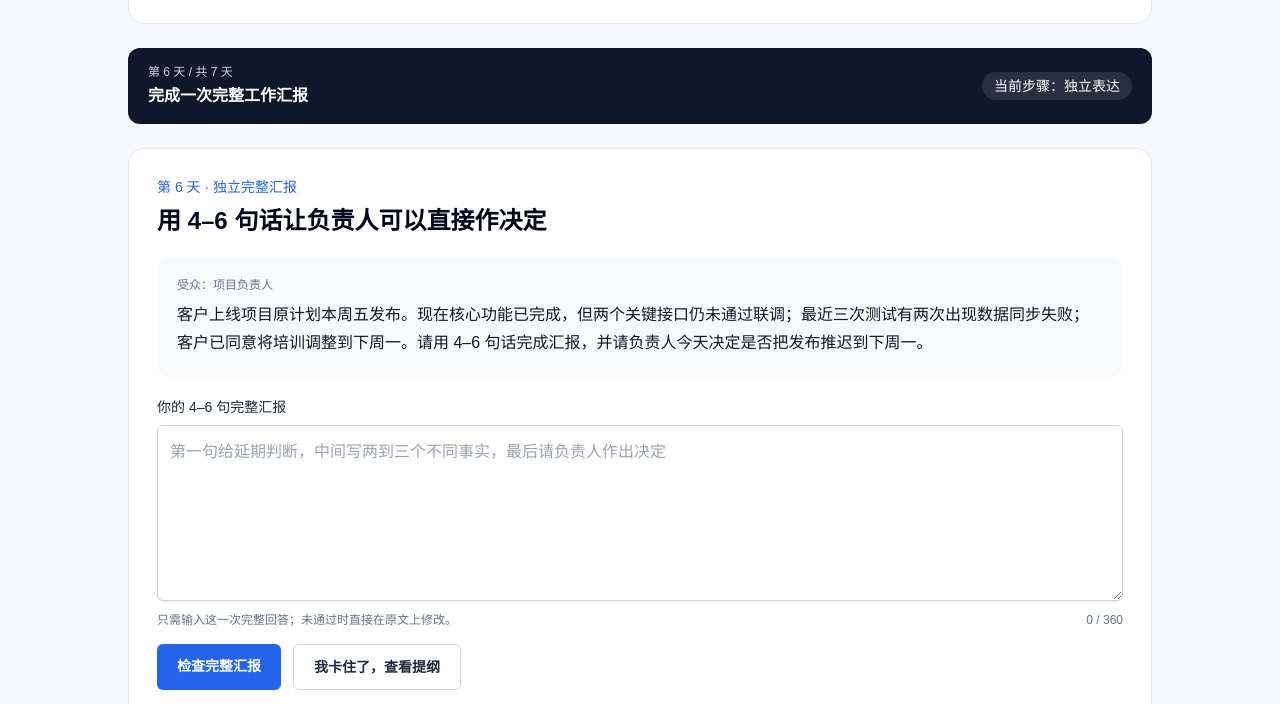
it: Module 16 progressive public training route › keeps Day 6 incomplete when the report has no actionable ending
(page scrolled)
Type "建议将本周五发布推迟到下周一。第一，两个关键接口仍未通过联调。第二，最近三次测试有两次出现数据同步失败。第三，客户培训已经调整到下周一。以上是当前情况。" into the text box labelled "你的 4–6 句完整汇报" at (640, 513), box [157, 425, 1123, 601]
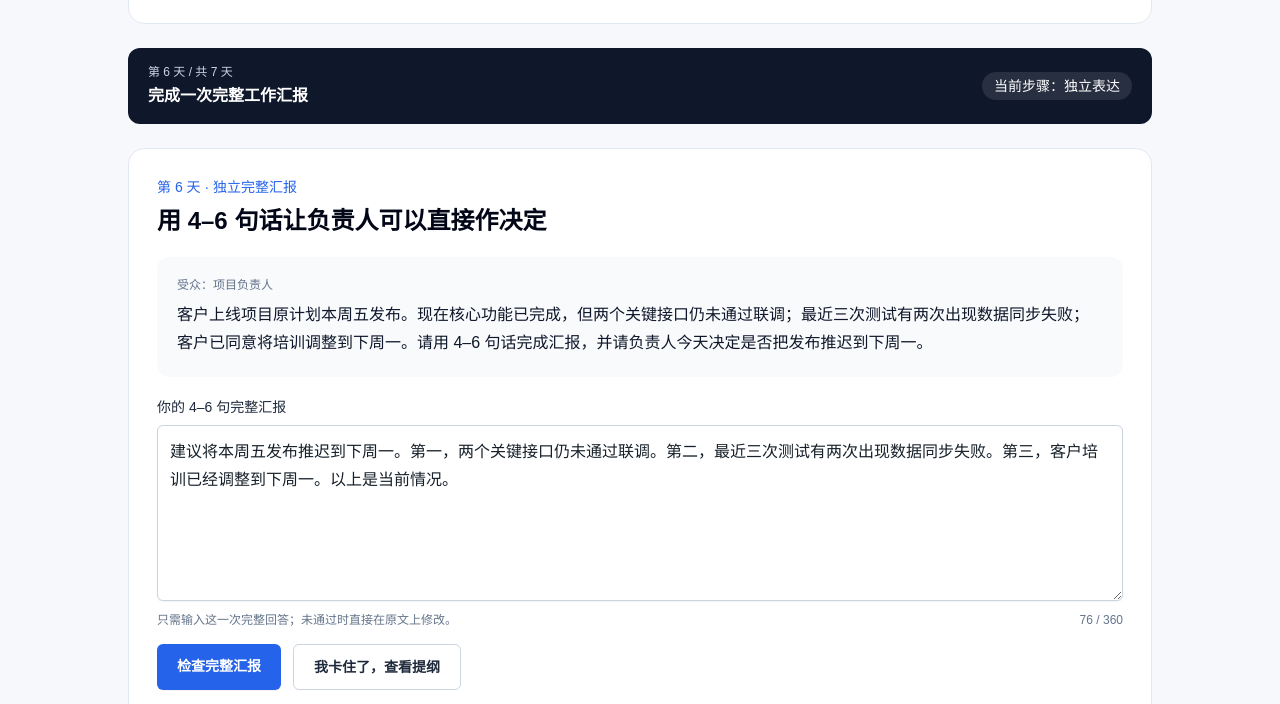
Click the button "检查完整汇报" at (219, 667), box [157, 644, 281, 690]
(page scrolled)
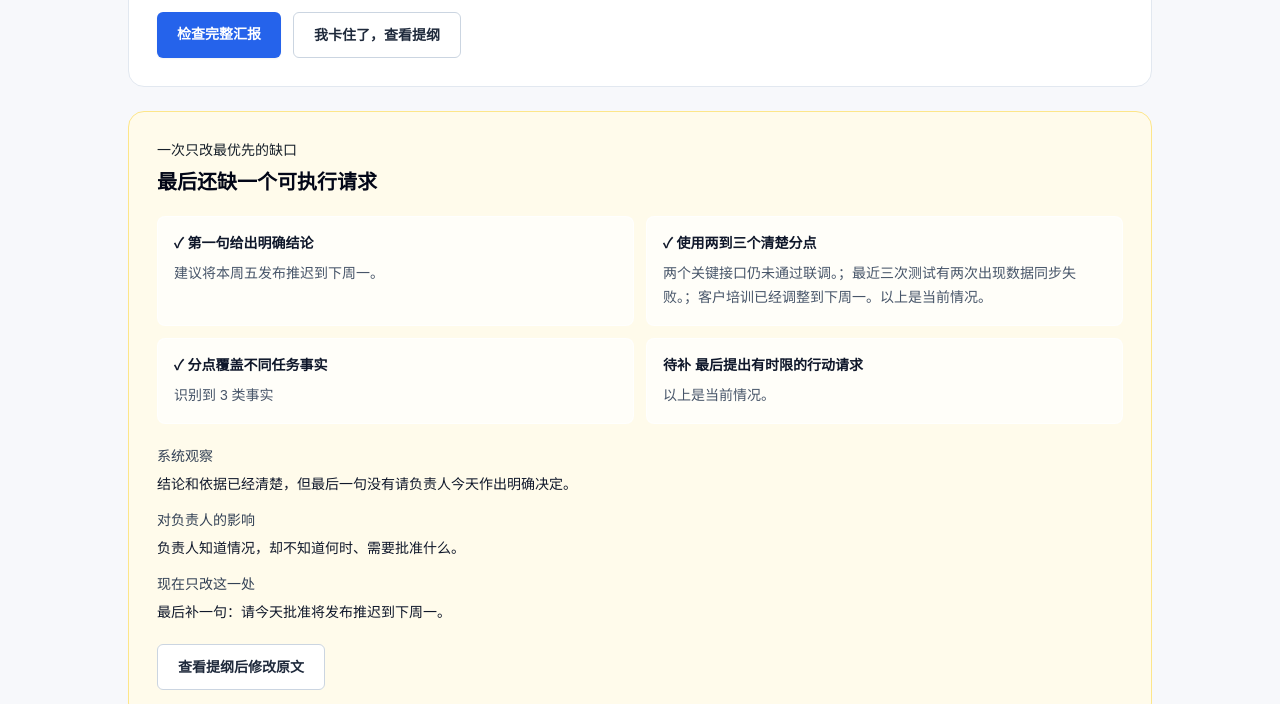
Expected: the text "一次只改最优先的缺口" is shown, [157, 142, 297, 158]
Expected: the text "待补 最后提出有时限的行动请求" is shown, [663, 357, 863, 373]
Click the button "查看提纲后修改原文" at (241, 667), box [157, 644, 325, 690]
(page scrolled)
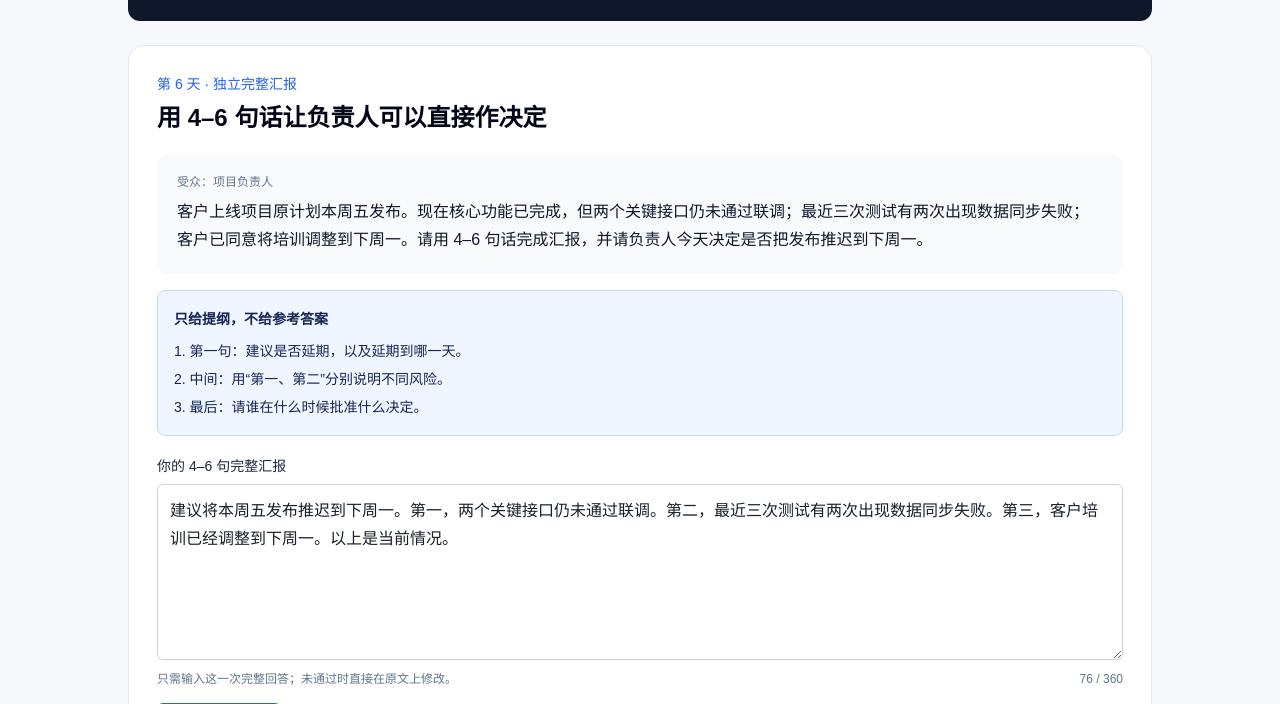
Expected: the text "只给提纲，不给参考答案" is shown, [174, 311, 328, 327]
